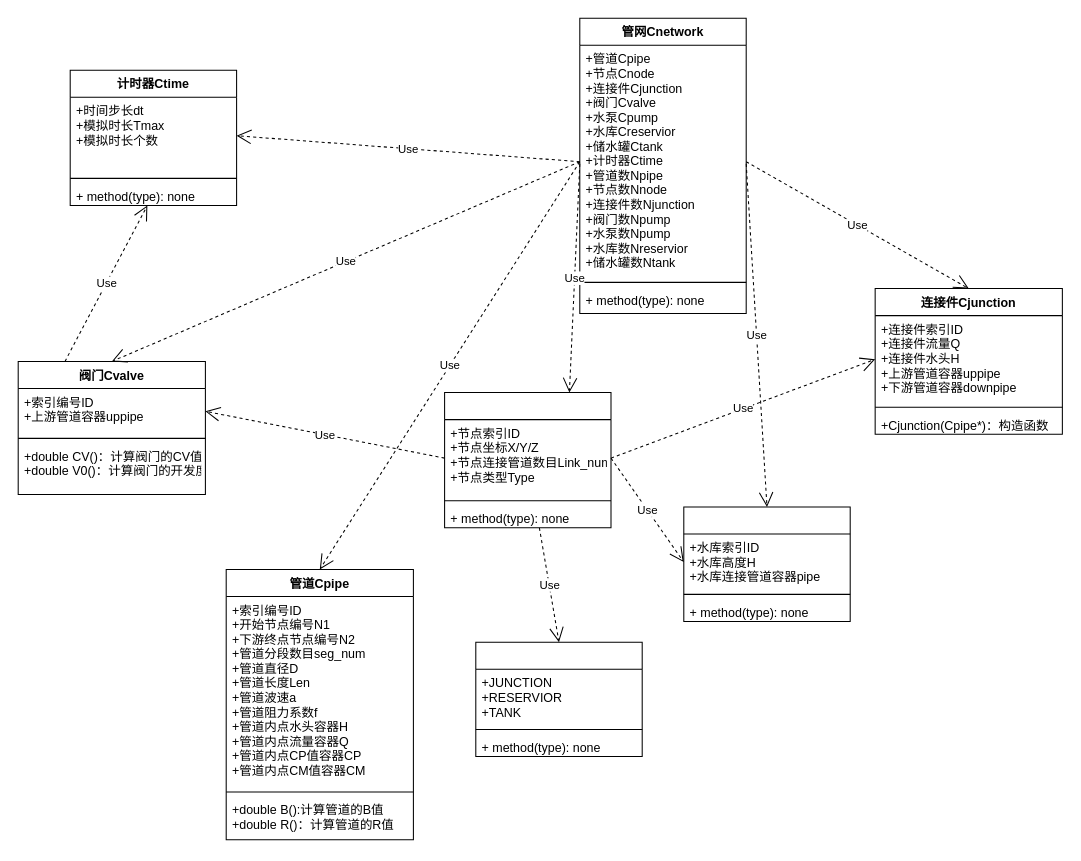
Image size: 1081x861. Some labels were removed from this diagram. The shapes that lost their labels are listed below. From the top down, each one's box as (x1, y1, x2, y2) in pixels, then its label:
(444, 392, 611, 528): 节点Cnode
(683, 506, 850, 621): 水库Creservior
(475, 641, 642, 757): 节点类型枚举NodeType
